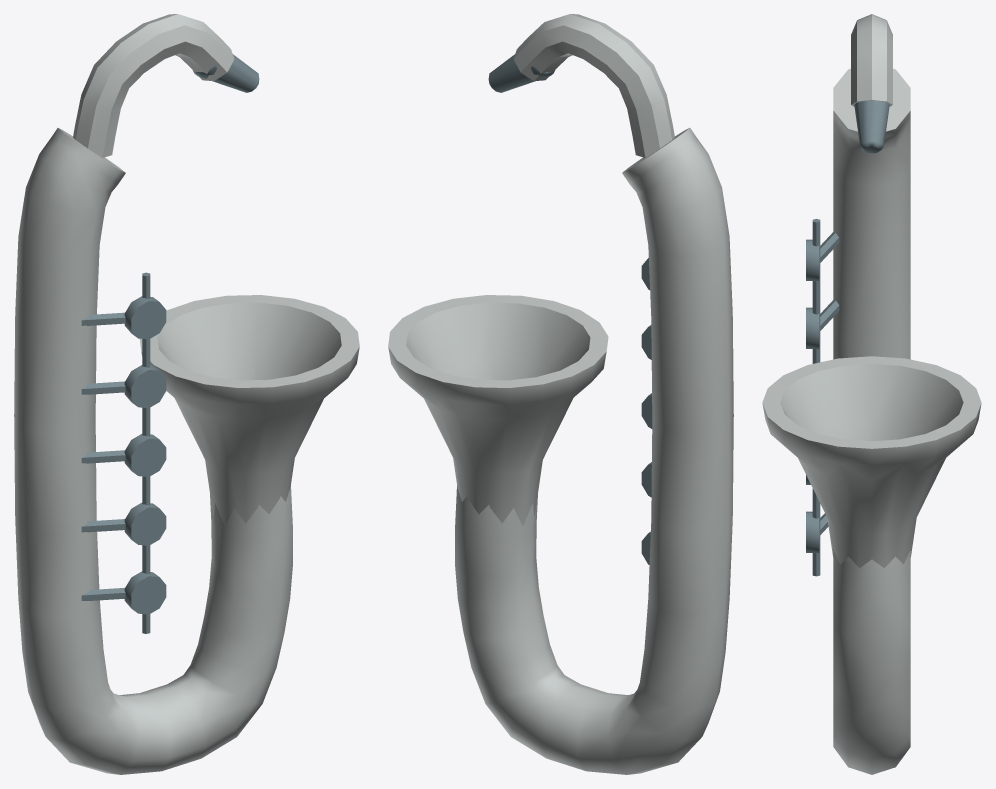
File: saxophone.glb
3 renders of one model, left to right at view 1: azimuth 30°, elevation 25°; view 2: azimuth 150°, elevation 25°; view 3: azimuth 270°, elevation 25°, orthographic.
Visible parts, largest first — view 1: sax_body, flared_bell, crook, key_rail, key_pad, key_pad.003, key_pad.002, key_pad.001, key_pad.004, mouthpiece; view 2: sax_body, flared_bell, crook, mouthpiece; view 3: sax_body, flared_bell, crook, mouthpiece, key_rail, key_pad.004, key_pad.003, key_pad.
Boxes of the visible parts, <box> form: sax_body: <box>14,128,292,774</box>; flared_bell: <box>139,295,359,525</box>; crook: <box>73,14,234,157</box>; key_rail: <box>142,272,150,633</box>; key_pad: <box>124,571,166,614</box>; key_pad.003: <box>124,365,166,408</box>; key_pad.002: <box>124,434,166,476</box>; key_pad.001: <box>124,502,166,545</box>; key_pad.004: <box>124,296,166,339</box>; mouthpiece: <box>192,54,259,92</box>; sax_body: <box>455,128,733,774</box>; flared_bell: <box>388,295,608,525</box>; crook: <box>513,14,674,157</box>; mouthpiece: <box>488,54,555,92</box>; sax_body: <box>833,68,910,774</box>; flared_bell: <box>762,356,981,567</box>; crook: <box>851,14,892,106</box>; mouthpiece: <box>854,100,889,153</box>; key_rail: <box>812,219,820,576</box>; key_pad.004: <box>806,239,819,280</box>; key_pad.003: <box>806,307,819,348</box>; key_pad: <box>806,511,819,552</box>.
Bounding box in the file's own units: 0.2481 × 0.5442 × 0.146.
